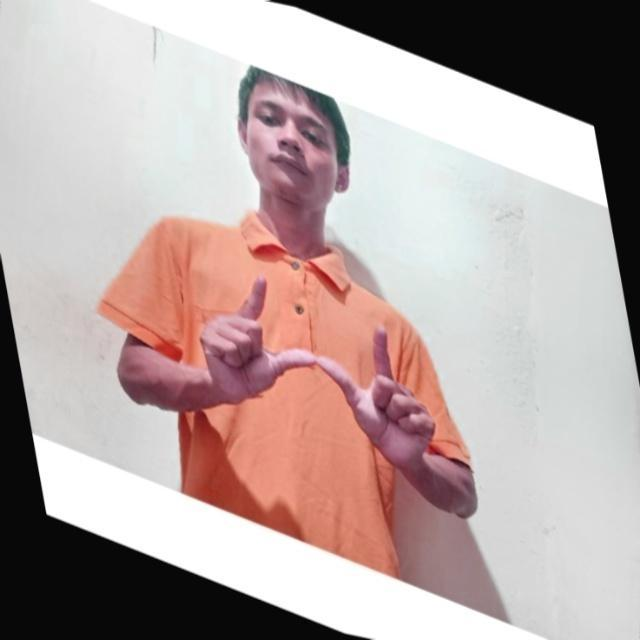W: (204, 268, 433, 459)
